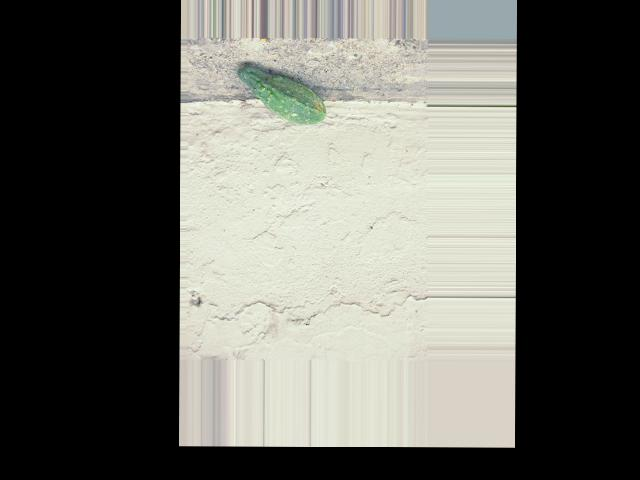cucumber: (238, 64, 326, 125)
